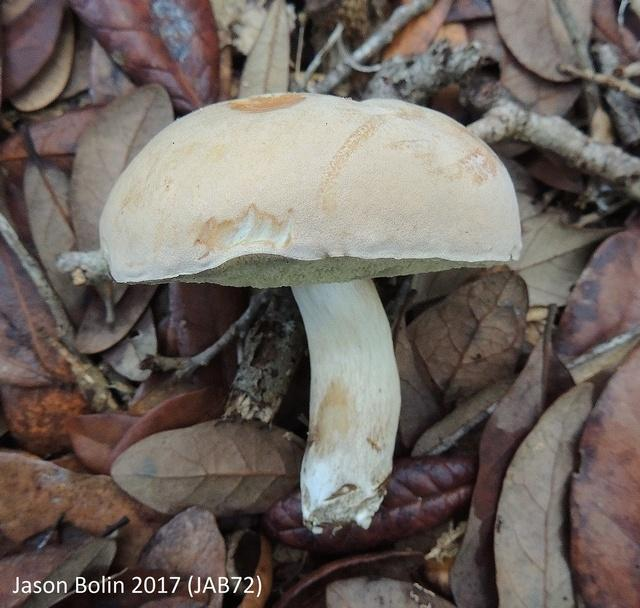edible_mushroom: (97, 89, 523, 534)
